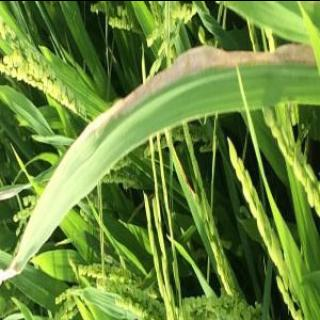Hawar-Daun: (0, 45, 319, 278)
